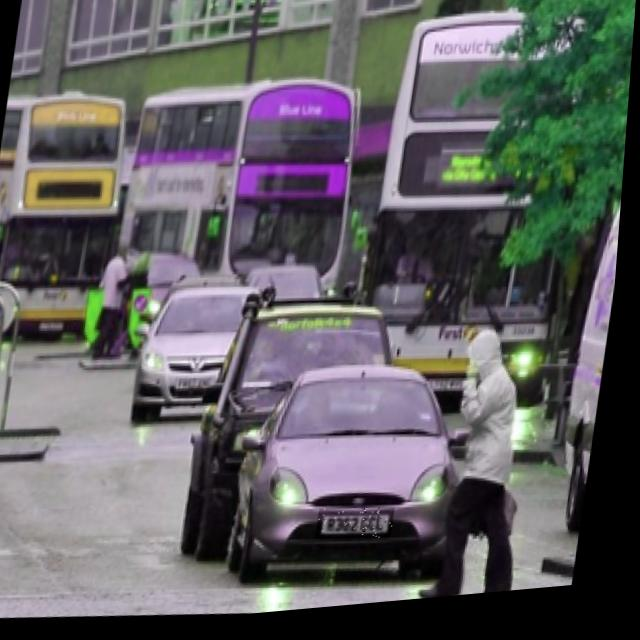license_plate: (323, 510, 403, 551)
